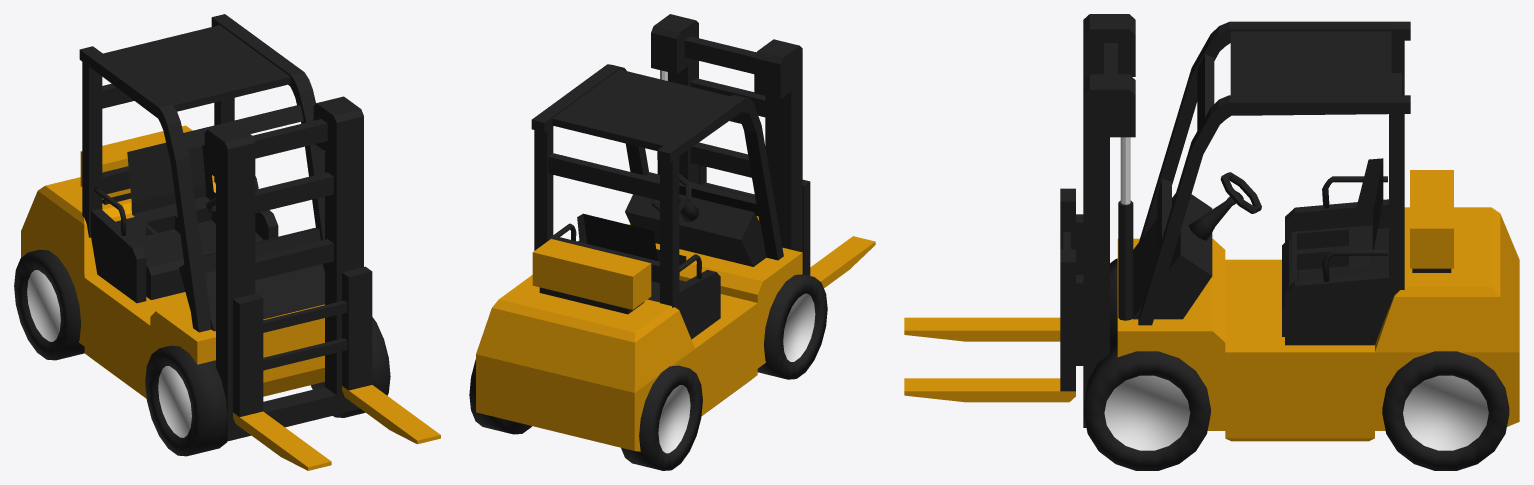
Rendered from Folklift.fbx.
The picture shows the model from 3 angles, left to right: view 1: azimuth 30°, elevation 25°; view 2: azimuth 150°, elevation 25°; view 3: azimuth 270°, elevation 25°; orthographic projection. The views are drawn at different scales.
Parts seen in each view (by area): view 1: Cube.067; view 2: Cube.067; view 3: Cube.067.
Part boxes in pixels (x1,y1,x2,y2): Cube.067: [14, 14, 440, 470]; Cube.067: [469, 14, 875, 470]; Cube.067: [904, 14, 1519, 470].
Size of the model in its own units: 171 by 278 by 423.
